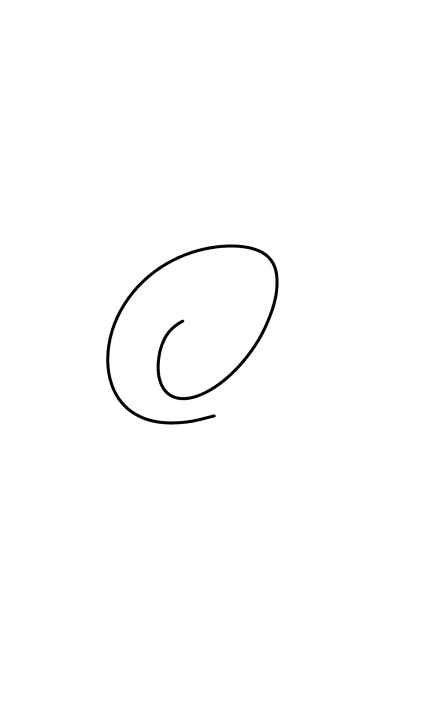Circle: (101, 241, 280, 427)
